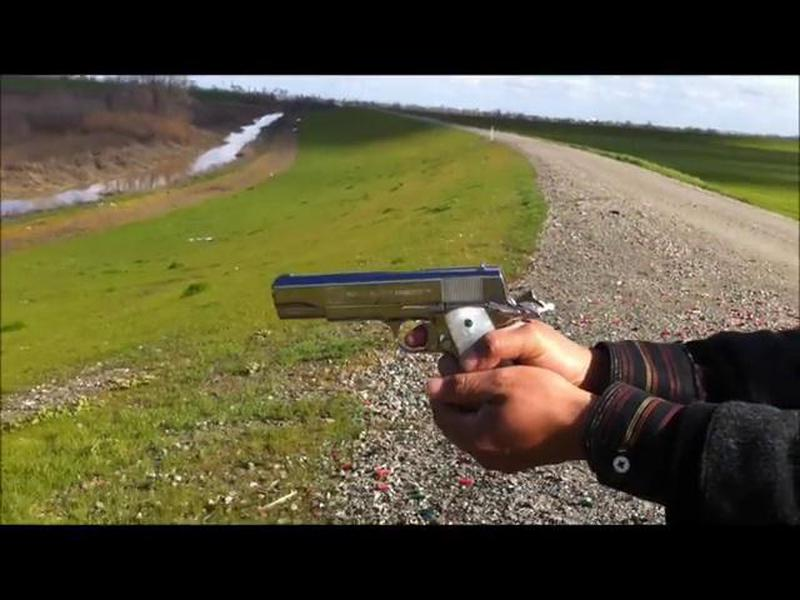Pistola: (264, 235, 532, 394)
